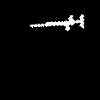double_crochet: (30, 15, 83, 30)
